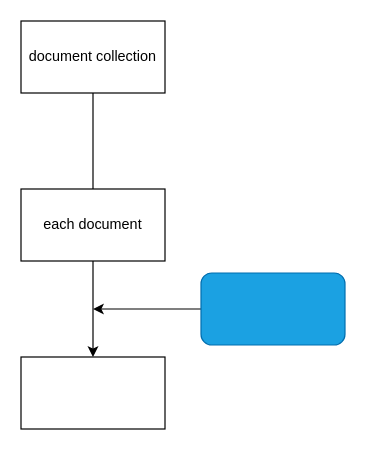
Some shapes in this 366 by 450 pixel diagram are drawn without their labels. The shapes that lost their labels are listed below. From the top down, each one's centre as x and y in pixels, then its label:
(x=272, y=308): TextToShingles np.array or set of 32 or 64 integers
(x=92, y=392): shingled document
